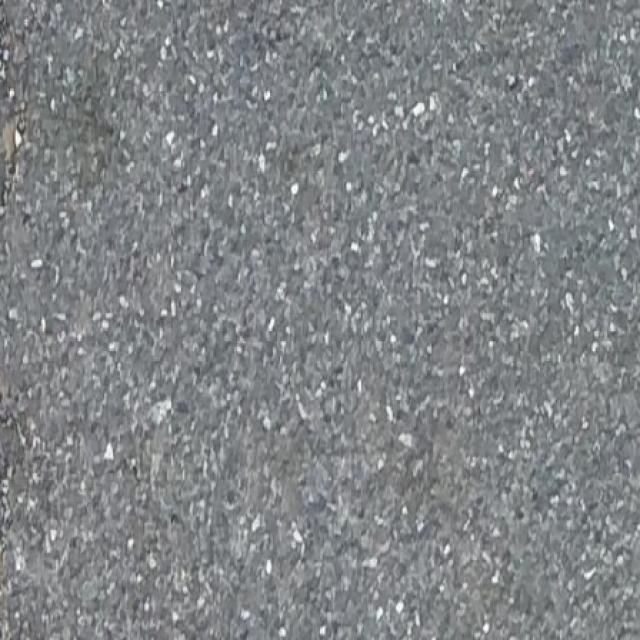Vertical Crack: (0, 31, 27, 221)
